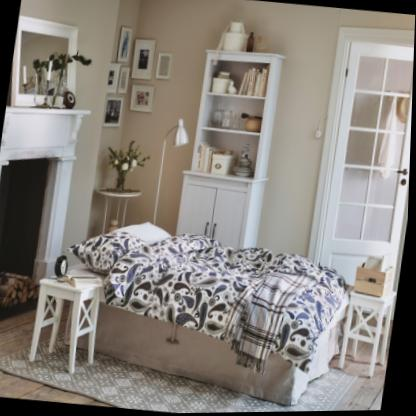Bed: (50, 209, 365, 415)
